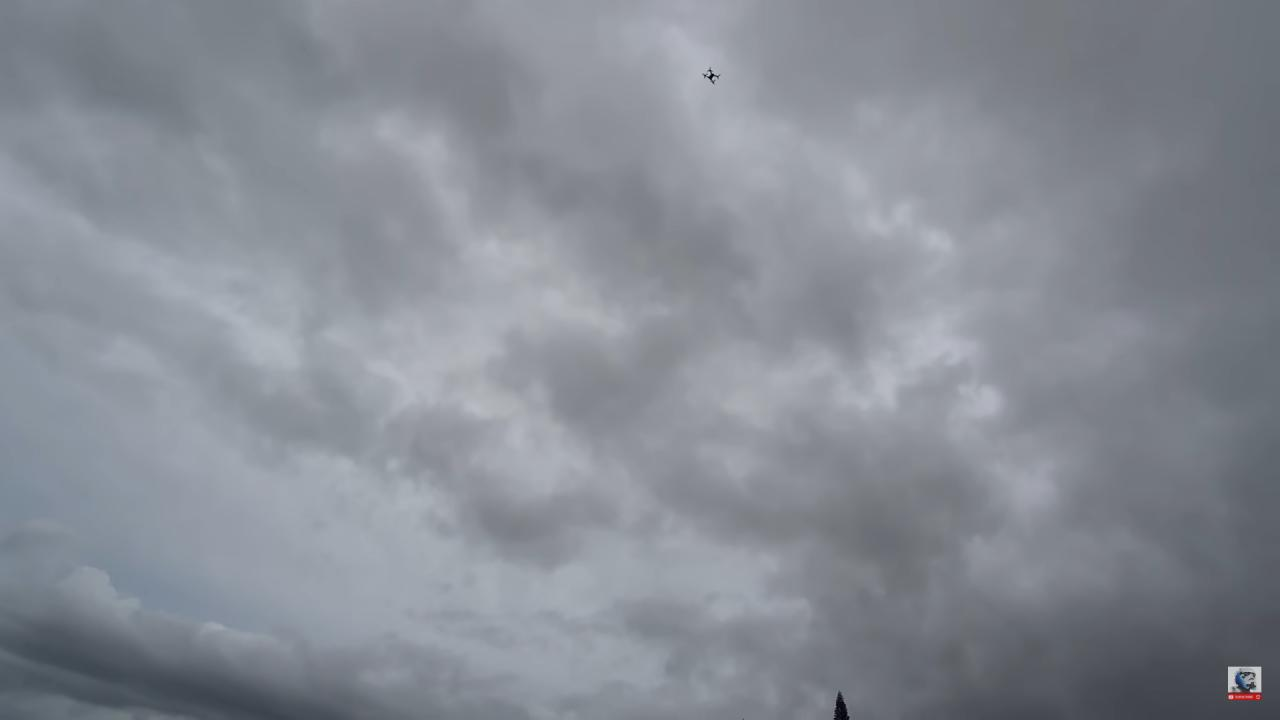Drone: (691, 57, 730, 94)
